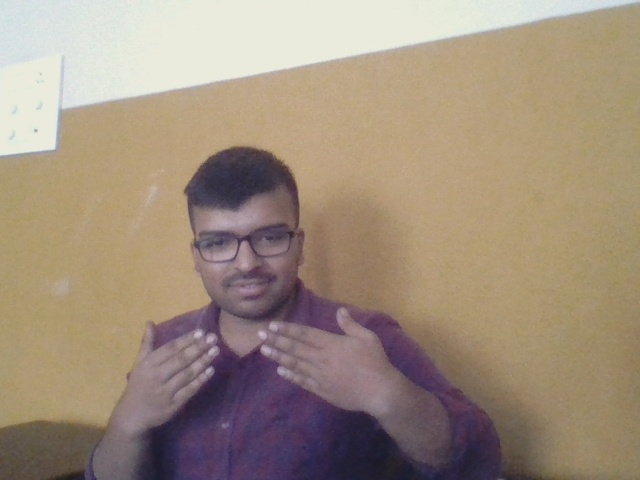Thank You: (104, 306, 419, 442)
